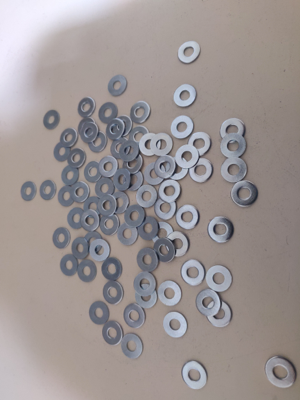circle: (266, 357, 297, 389), (231, 180, 258, 208), (182, 361, 208, 390), (206, 300, 233, 327), (206, 266, 233, 292), (208, 216, 234, 243), (197, 289, 222, 316), (220, 118, 247, 143), (181, 260, 206, 286), (221, 158, 247, 183), (164, 312, 188, 338), (221, 134, 247, 158), (158, 281, 182, 306), (166, 232, 190, 257), (176, 205, 200, 230), (189, 158, 213, 183), (175, 145, 200, 169), (188, 132, 212, 156), (134, 272, 157, 297), (124, 303, 146, 329), (152, 222, 175, 246), (172, 115, 195, 139), (154, 238, 176, 263), (167, 156, 189, 181), (178, 41, 201, 64), (174, 84, 197, 107), (154, 198, 177, 221), (158, 180, 181, 203), (121, 334, 143, 358), (137, 248, 158, 273), (124, 205, 146, 228), (154, 156, 176, 179), (151, 133, 173, 156), (139, 133, 161, 156), (136, 284, 157, 308), (89, 301, 110, 325), (102, 258, 123, 281), (118, 223, 139, 246), (138, 217, 159, 240), (137, 185, 158, 208), (145, 162, 166, 185), (103, 321, 123, 345), (109, 192, 130, 214), (123, 170, 144, 192), (119, 140, 140, 162), (104, 281, 124, 304), (131, 101, 151, 124), (90, 239, 110, 262), (77, 260, 97, 282), (123, 153, 143, 175), (99, 156, 118, 179), (95, 178, 115, 199), (129, 127, 150, 147), (60, 254, 79, 276), (81, 210, 100, 232), (84, 232, 103, 254), (108, 75, 127, 97), (98, 195, 117, 217), (80, 122, 98, 145), (83, 197, 103, 217), (99, 103, 118, 124), (71, 182, 90, 203), (68, 208, 87, 229), (89, 132, 108, 153), (100, 214, 119, 235), (111, 138, 130, 159), (106, 119, 125, 140), (113, 116, 132, 137), (68, 148, 86, 170), (114, 168, 131, 191), (60, 128, 79, 148), (84, 162, 103, 182), (72, 238, 90, 259), (78, 97, 96, 118), (54, 141, 72, 162), (53, 228, 70, 249), (62, 165, 79, 185), (59, 186, 75, 207), (40, 181, 56, 201), (44, 110, 60, 130), (21, 182, 36, 202), (79, 119, 95, 136)
